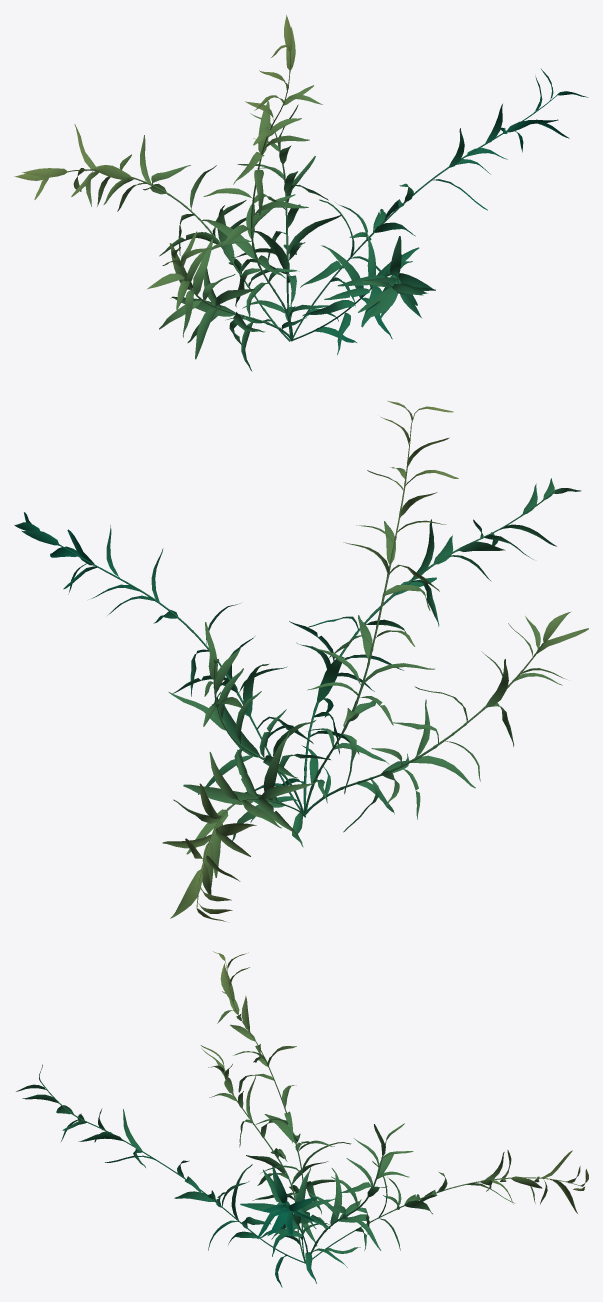
The model's file is shrub_02_2.glb.
3 renders of one model, top to bottom at view 1: azimuth 30°, elevation 25°; view 2: azimuth 150°, elevation 25°; view 3: azimuth 270°, elevation 25°, orthographic. The views are drawn at different scales.
Visible parts, largest first — view 1: shrub_02_c; view 2: shrub_02_c; view 3: shrub_02_c.
Boxes of the visible parts, <box> form: shrub_02_c: <box>14,15,588,371</box>; shrub_02_c: <box>14,400,588,921</box>; shrub_02_c: <box>16,951,588,1287</box>.
Size of the model in its own units: 1.77 by 1.31 by 2.29.
